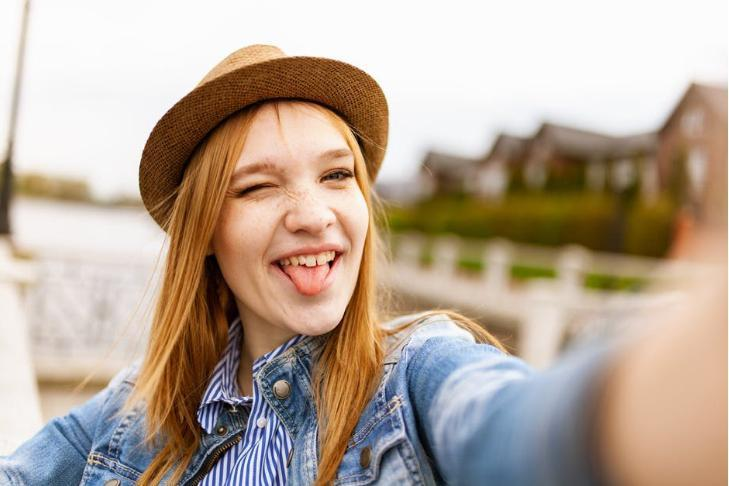face: (212, 105, 370, 331)
